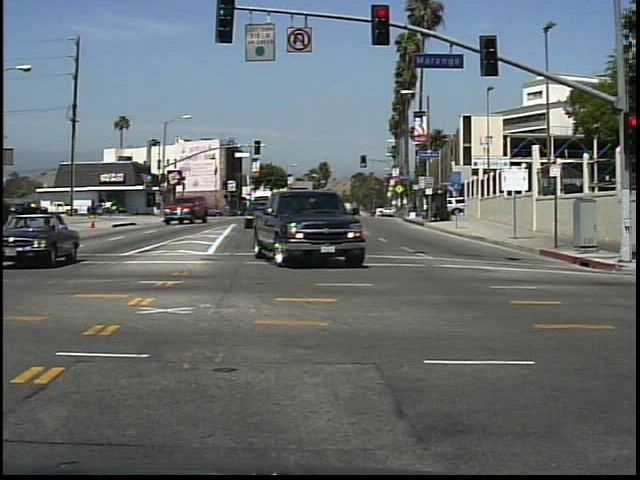person: (87, 198, 100, 223)
